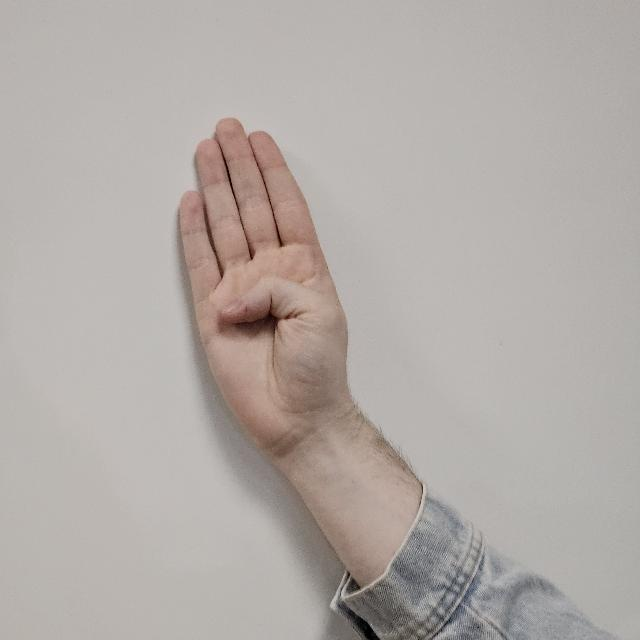Baixo: (157, 114, 379, 476)
